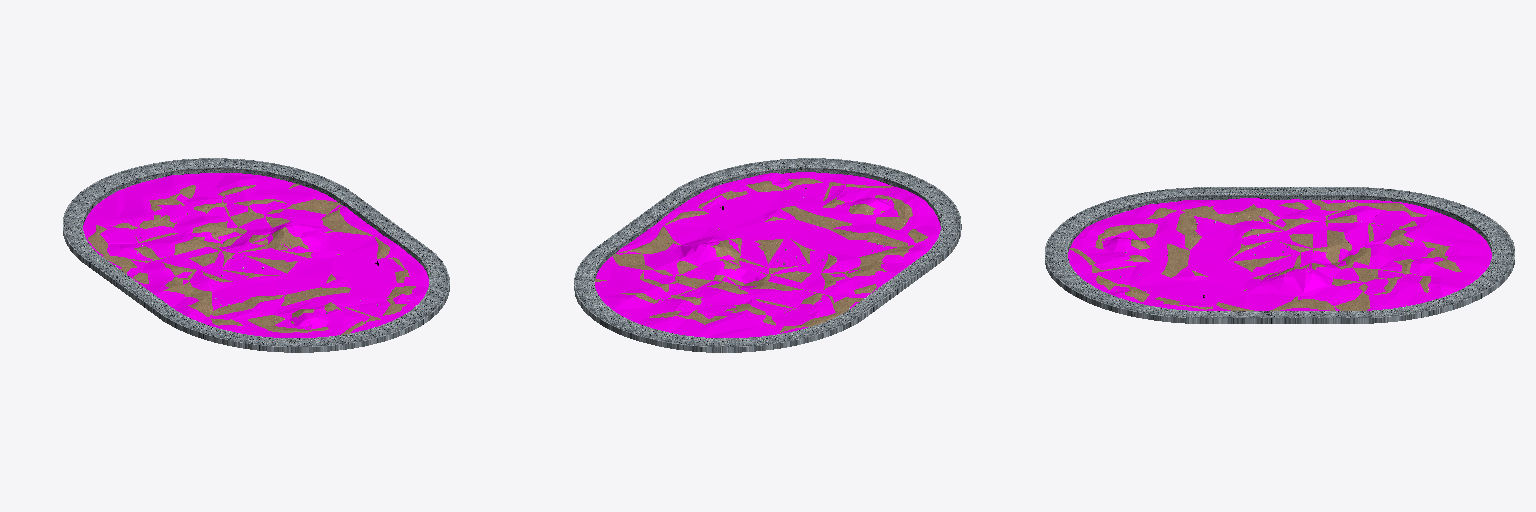
3 views of the same model, side by side, from view 1: azimuth 30°, elevation 25°; view 2: azimuth 150°, elevation 25°; view 3: azimuth 270°, elevation 25° (orthographic).
Visible parts, largest first — view 1: Walkmesh_Plane.001, Stands_Plane.003, Ground_Plane; view 2: Walkmesh_Plane.001, Stands_Plane.003, Ground_Plane; view 3: Walkmesh_Plane.001, Stands_Plane.003, Ground_Plane.
Boxes of the visible parts, box(x1,y1,x2,y2) form: Walkmesh_Plane.001: box(83, 173, 428, 337); Stands_Plane.003: box(63, 158, 449, 352); Ground_Plane: box(88, 184, 415, 334); Walkmesh_Plane.001: box(595, 172, 940, 337); Stands_Plane.003: box(574, 158, 961, 352); Ground_Plane: box(595, 178, 927, 332); Walkmesh_Plane.001: box(1068, 198, 1491, 310); Stands_Plane.003: box(1045, 187, 1514, 323); Ground_Plane: box(1070, 200, 1461, 310).
Bounding box in the file's own units: 68.92 × 4.59 × 104.
5 materials, 3 textured.